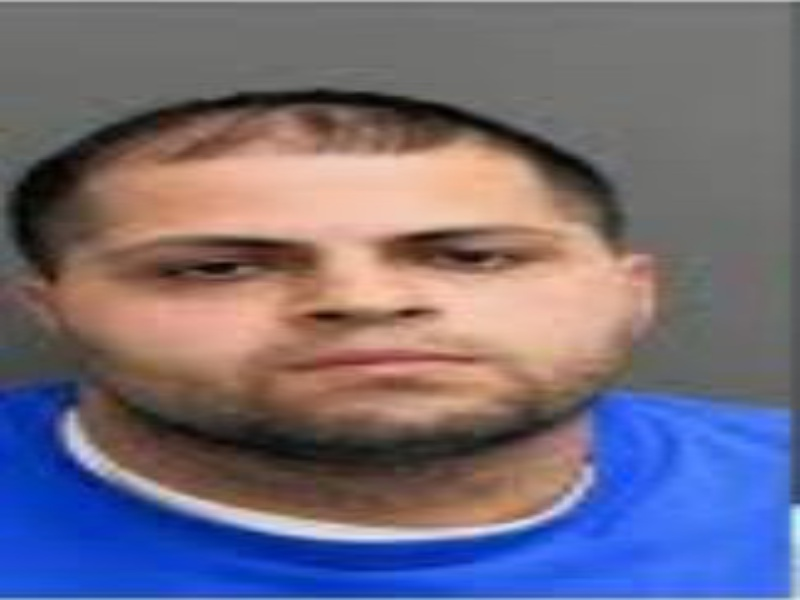TsisyArotava: (9, 103, 676, 471)
